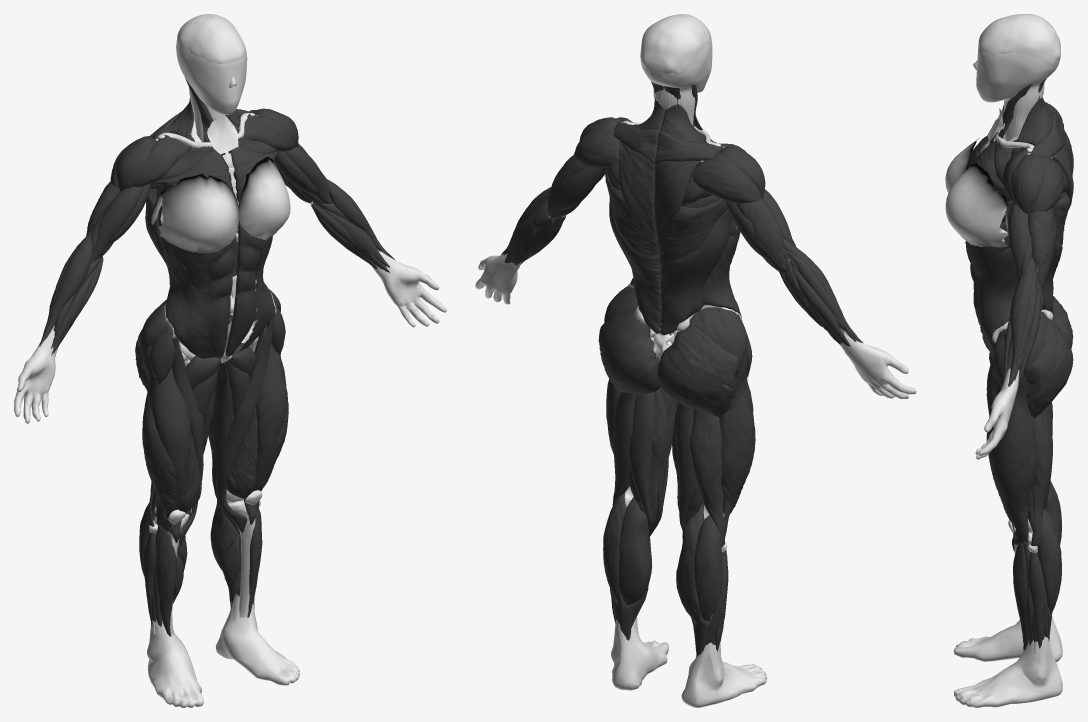
Rendered from corpo-f-10.glb.
3 views of the same model, side by side, from view 1: azimuth 30°, elevation 25°; view 2: azimuth 150°, elevation 25°; view 3: azimuth 270°, elevation 25° (orthographic).
Visible parts, largest first — view 1: pele, deco, mama, quad_reto_femoral, obliquos, adutores, antebraco_flexores, cabeca, quad_vasto_lateral, ombro_frontal, antebraco_braquiorradial, osso (+16 smaller); view 2: pele, gluteo_maximo, panturrilha_gastro, isquio_semitendineo, dorsal_inferior, isquio_biceps_femoral, trapezio_inferior, dorsal_superior, antebraco_extensores, ombro_posterior, quad_vasto_lateral, osso (+13 smaller); view 3: pele, mama, deco, cabeca, quad_vasto_lateral, obliquos, gluteo_maximo, osso, panturrilha_gastro, isquio_biceps_femoral, ombro_lateral, triceps_lateral (+22 smaller).
Boxes of the visible parts, left/top/right/bottom form: pele: left=14, top=251, right=446, bottom=707; deco: left=143, top=78, right=280, bottom=636; mama: left=151, top=157, right=290, bottom=253; quad_reto_femoral: left=152, top=324, right=286, bottom=542; obliquos: left=161, top=236, right=275, bottom=358; adutores: left=180, top=342, right=256, bottom=547; antebraco_flexores: left=51, top=201, right=389, bottom=355; cabeca: left=176, top=47, right=247, bottom=142; quad_vasto_lateral: left=142, top=388, right=288, bottom=520; ombro_frontal: left=132, top=113, right=294, bottom=187; antebraco_braquiorradial: left=39, top=179, right=394, bottom=346; osso: left=176, top=14, right=246, bottom=104; pele: left=475, top=254, right=916, bottom=707; gluteo_maximo: left=598, top=306, right=739, bottom=417; panturrilha_gastro: left=603, top=492, right=722, bottom=622; isquio_semitendineo: left=628, top=389, right=702, bottom=532; dorsal_inferior: left=613, top=230, right=725, bottom=335; isquio_biceps_femoral: left=612, top=392, right=725, bottom=546; trapezio_inferior: left=619, top=141, right=700, bottom=250; dorsal_superior: left=605, top=168, right=732, bottom=258; antebraco_extensores: left=504, top=193, right=856, bottom=346; ombro_posterior: left=573, top=127, right=761, bottom=203; quad_vasto_lateral: left=606, top=379, right=755, bottom=513; osso: left=640, top=14, right=711, bottom=80; pele: left=953, top=368, right=1062, bottom=707; mama: left=945, top=138, right=1008, bottom=247; deco: left=989, top=84, right=1052, bottom=650; cabeca: left=976, top=45, right=1058, bottom=148; quad_vasto_lateral: left=992, top=406, right=1037, bottom=543; obliquos: left=965, top=222, right=1018, bottom=354; gluteo_maximo: left=1026, top=296, right=1073, bottom=418; osso: left=973, top=14, right=1060, bottom=69; panturrilha_gastro: left=1037, top=481, right=1061, bottom=614; isquio_biceps_femoral: left=1028, top=402, right=1052, bottom=547; ombro_lateral: left=1011, top=154, right=1045, bottom=214; triceps_lateral: left=1028, top=207, right=1054, bottom=283.
Size of the model in its own units: 1.14 by 1.65 by 0.2907.
Materials: 1 (1 with a texture image).
